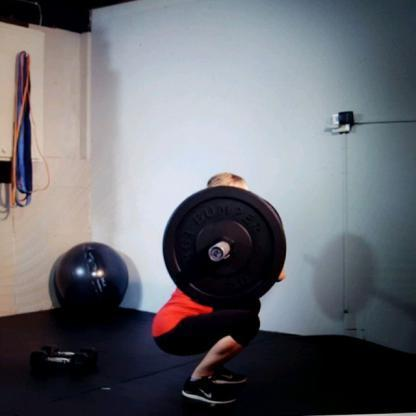barbell: (160, 185, 288, 310)
